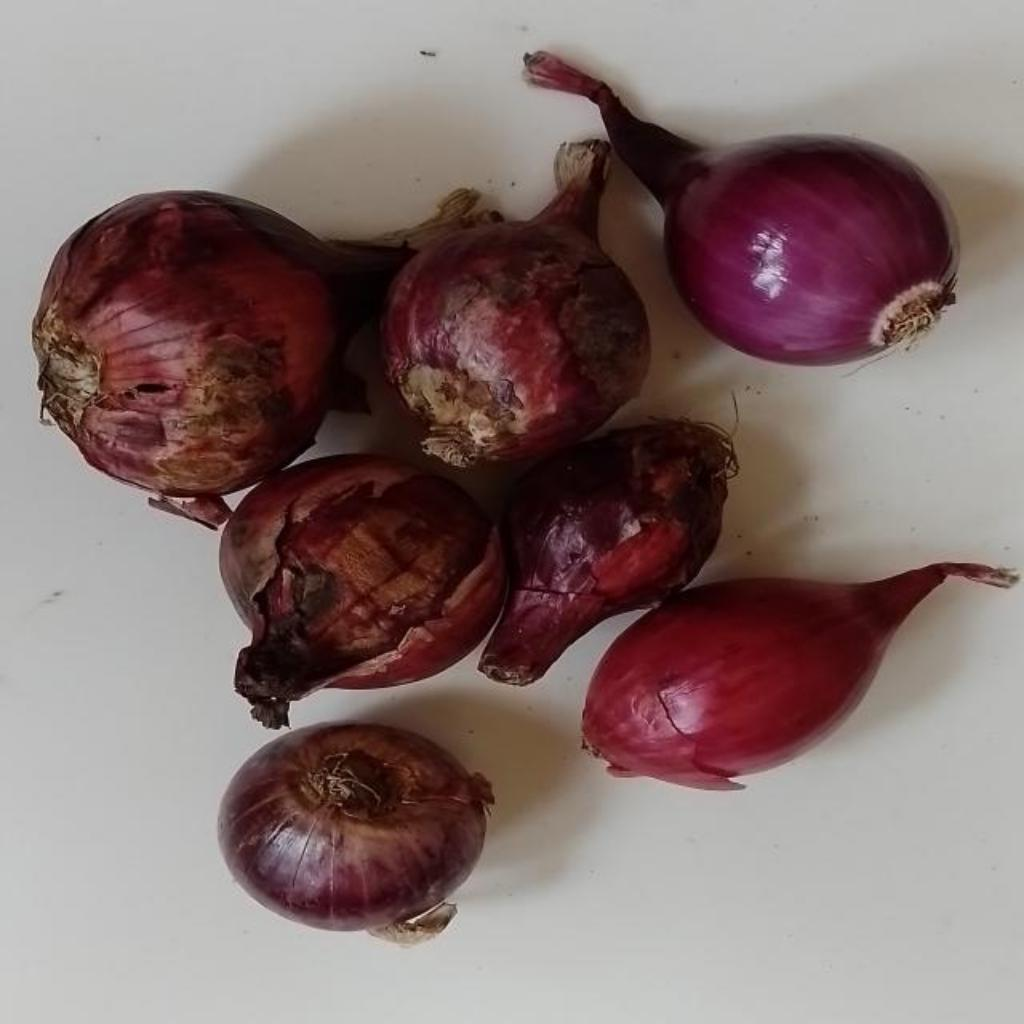Onion: (525, 51, 960, 364), (32, 194, 410, 498), (584, 563, 1019, 790), (382, 141, 651, 466), (219, 456, 506, 729), (480, 421, 739, 686), (219, 726, 494, 946)
